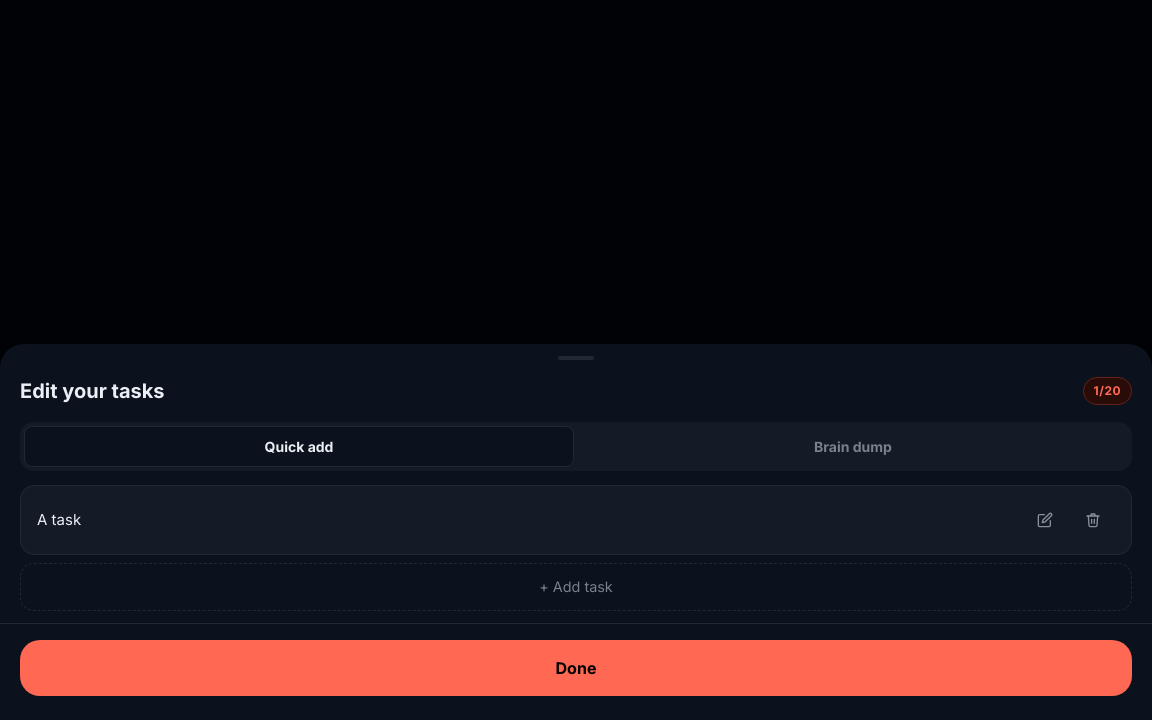
Test: EditModal › switching to Brain dump reveals the append form + explainer that says nothing is replaced
Click the tab with test id "edit-mode-dump".
click(853, 446)  # box [578,426,1128,467]
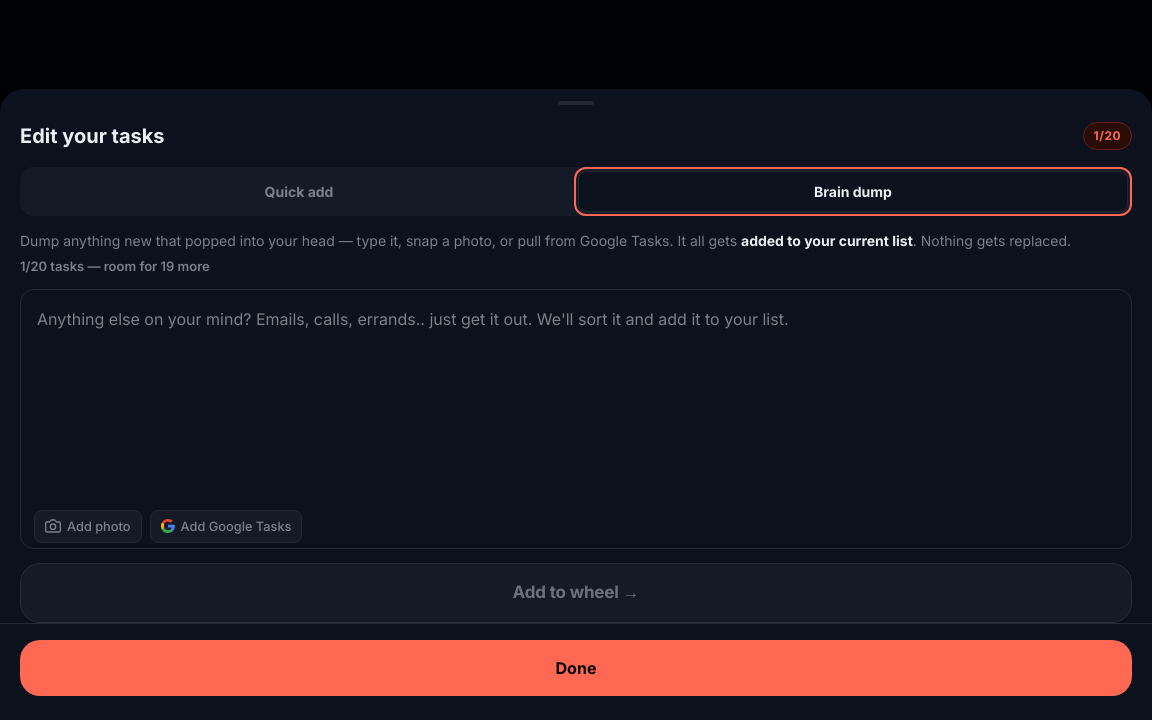
expect the button with test id "brain-dump-submit" is shown: met, box [20,563,1132,623]
expect the element with test id "brain-dump-explainer" shows "added to your current list": met, box [741,232,913,248]
expect the element with test id "brain-dump-explainer" shows "nothing gets replaced": met, box [913,232,1071,248]
